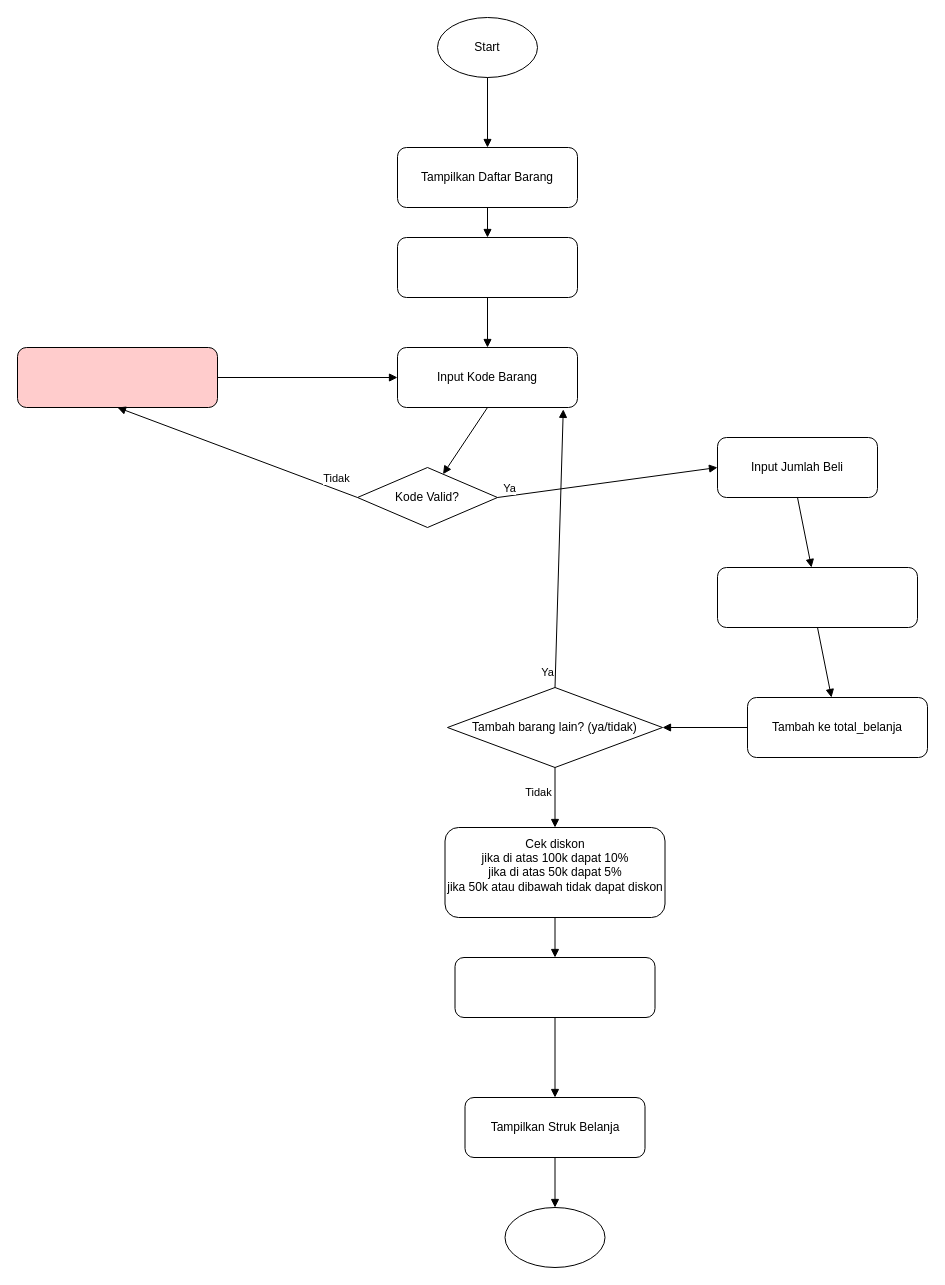
Some shapes in this 945 by 1285 pixel diagram are drawn without their labels. The centre of each missing label's shape, as x and y in pixels:
"End" goes at point 554,1237.
"Hitung subtotal = harga × jumlah" goes at point 817,597.
"Inisialisasi total_belanja = 0" goes at point 487,267.
"Tampilkan 'Kode barang tidak ditemukan'" goes at point 117,377.
"Total bayar = total - diskon" goes at point 554,987.
